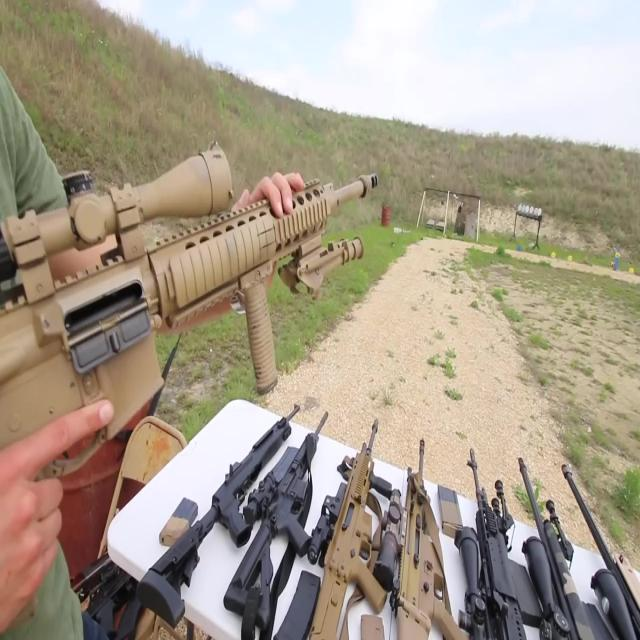Weapon: (108, 352, 640, 640), (0, 121, 408, 418)
